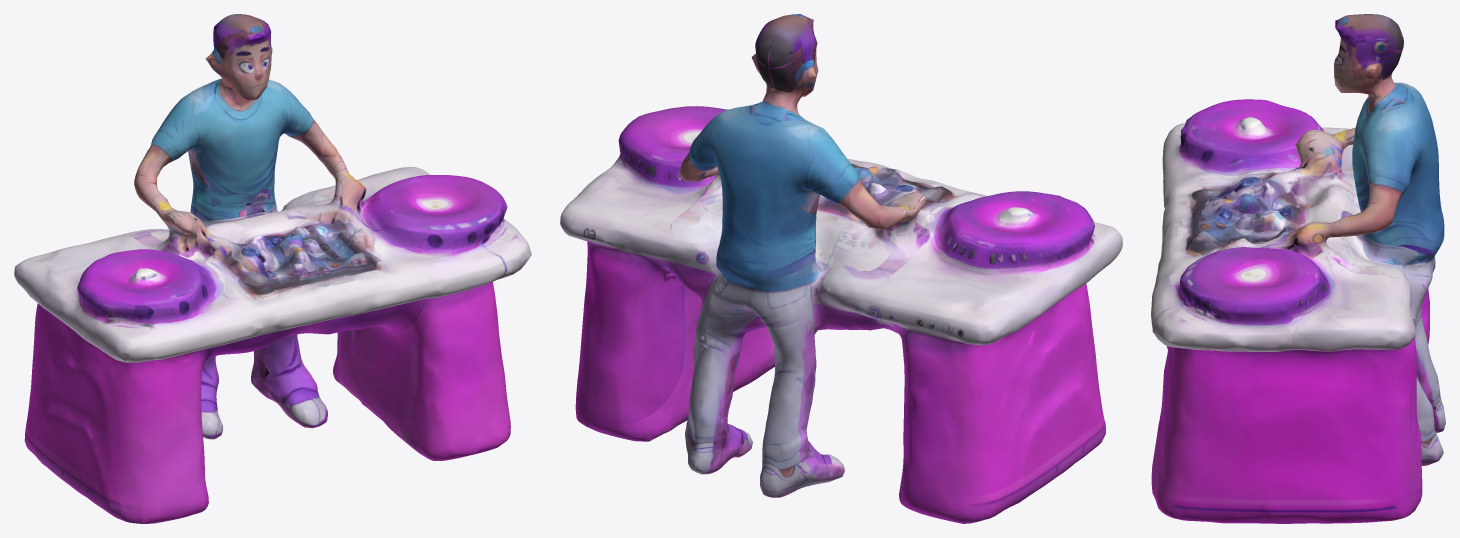
3 views of the same model, side by side, from view 1: azimuth 30°, elevation 25°; view 2: azimuth 150°, elevation 25°; view 3: azimuth 270°, elevation 25° (orthographic). The views are drawn at different scales.
Bounding box in the file's own units: 1.2 × 1.12 × 0.6926.
Materials: 1 (1 with a texture image).
